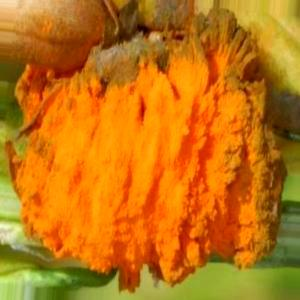Leaf_Scald: (122, 25, 235, 280), (51, 56, 117, 255), (240, 84, 276, 271)
